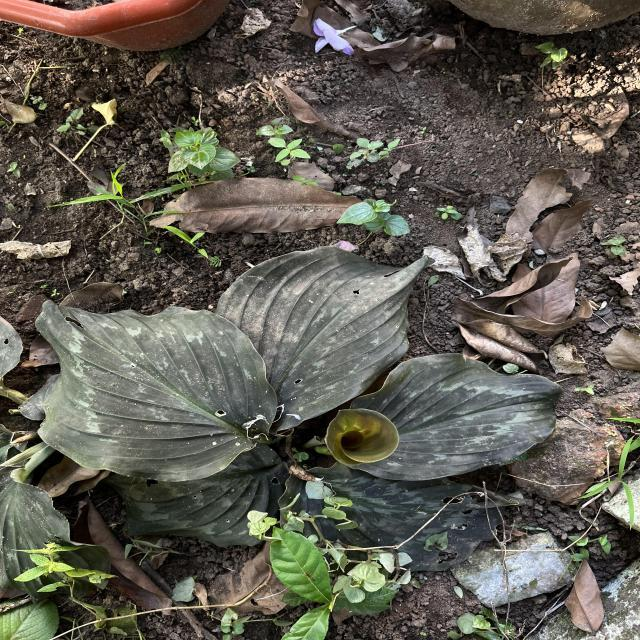Kaempferia galanga linn: (32, 296, 280, 484), (213, 243, 438, 434), (348, 352, 566, 482)
